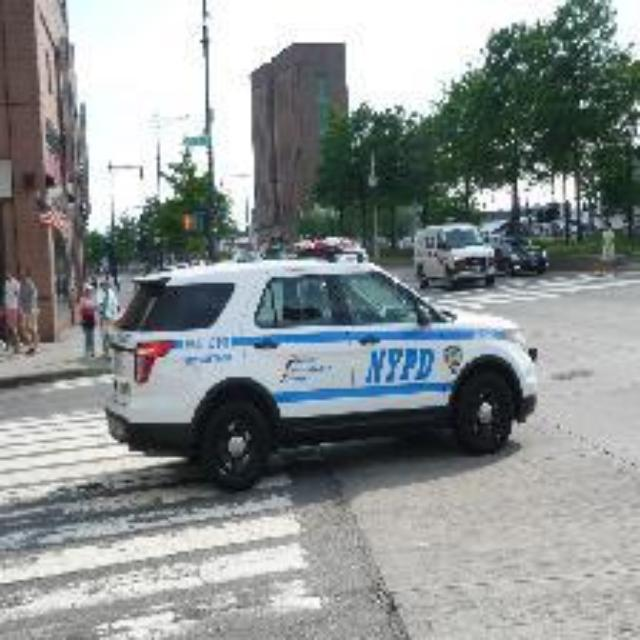emergency: (98, 240, 542, 490)
